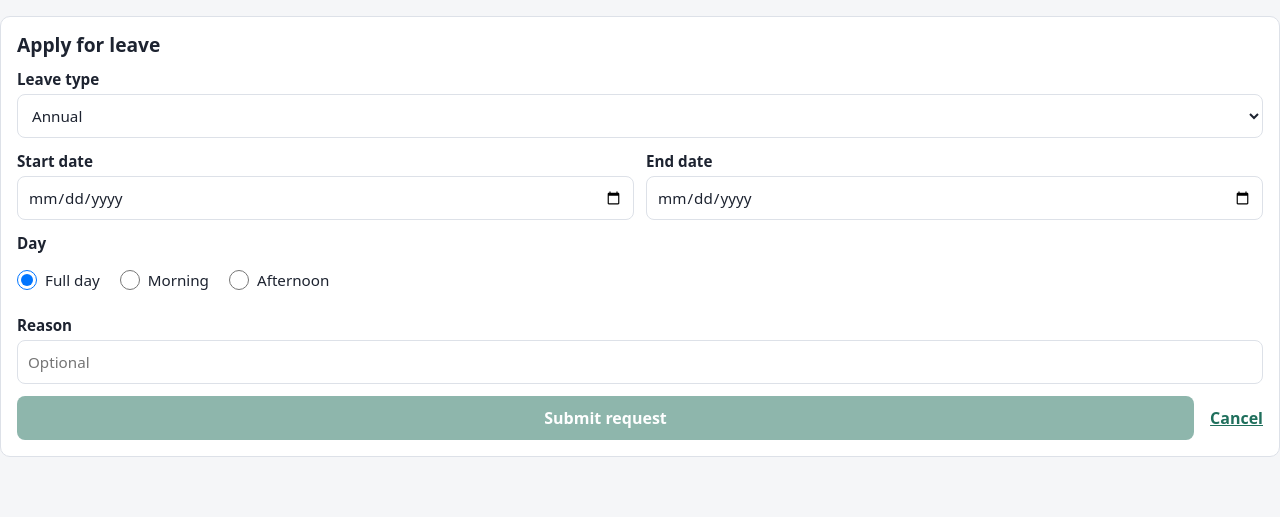
Test: ApplyLeaveForm › end date before start date is flagged and blocks submit
The width and height of the screenshot is (1280, 517).
In the date field labelled "Start date": x=326, y=198 [17, 176, 634, 220], type "2026-03-06"
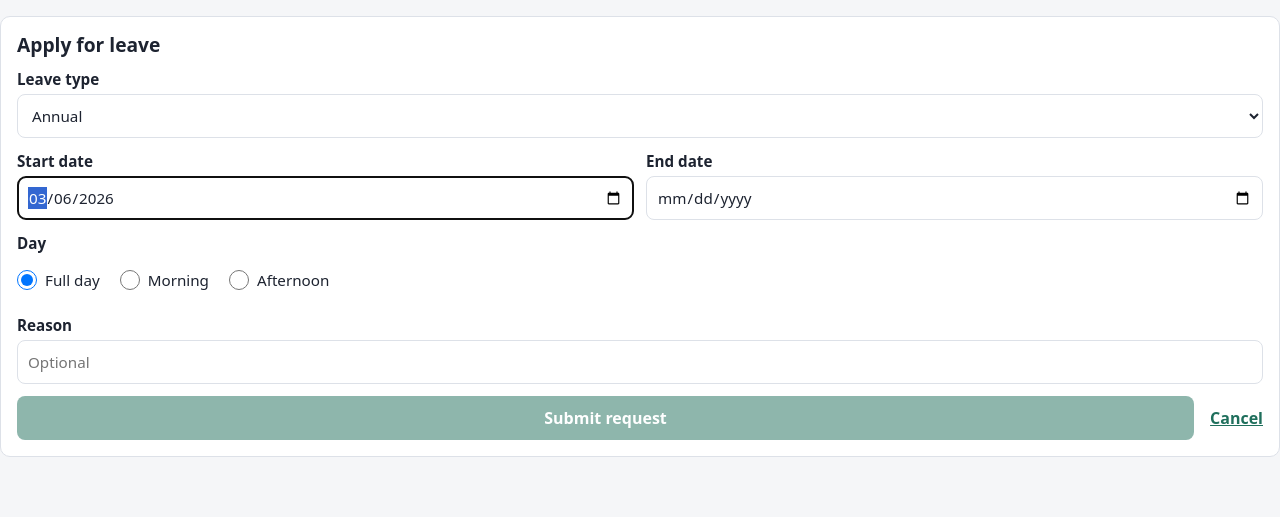
In the date field labelled "End date": x=954, y=198 [646, 176, 1263, 220], type "2026-03-02"
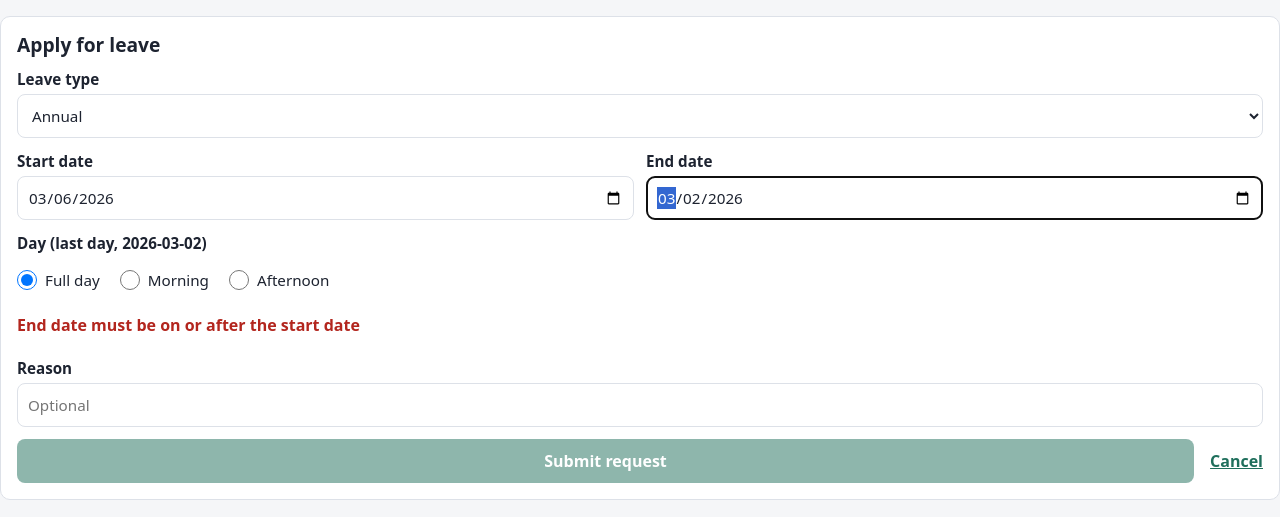
Expected: the button "Submit request" is disabled, [17, 439, 1194, 483]
Now the text with test id "balance-line" shows "on or after the start date", box [17, 314, 360, 336]
